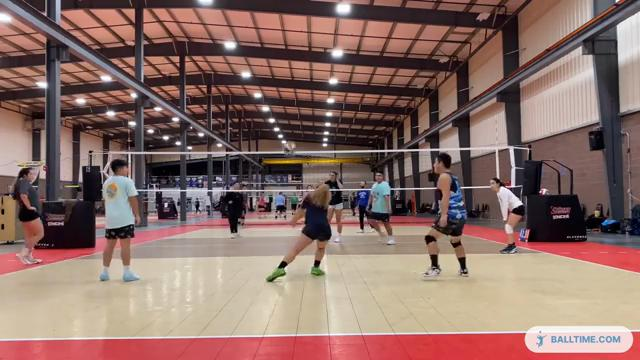Player: (424, 153, 468, 276), (100, 159, 139, 281), (13, 168, 43, 264), (490, 178, 524, 253), (368, 172, 395, 244), (325, 172, 343, 242), (223, 183, 243, 237), (356, 181, 372, 232)
Receive: (260, 183, 333, 284)
ball: (283, 142, 296, 157)
